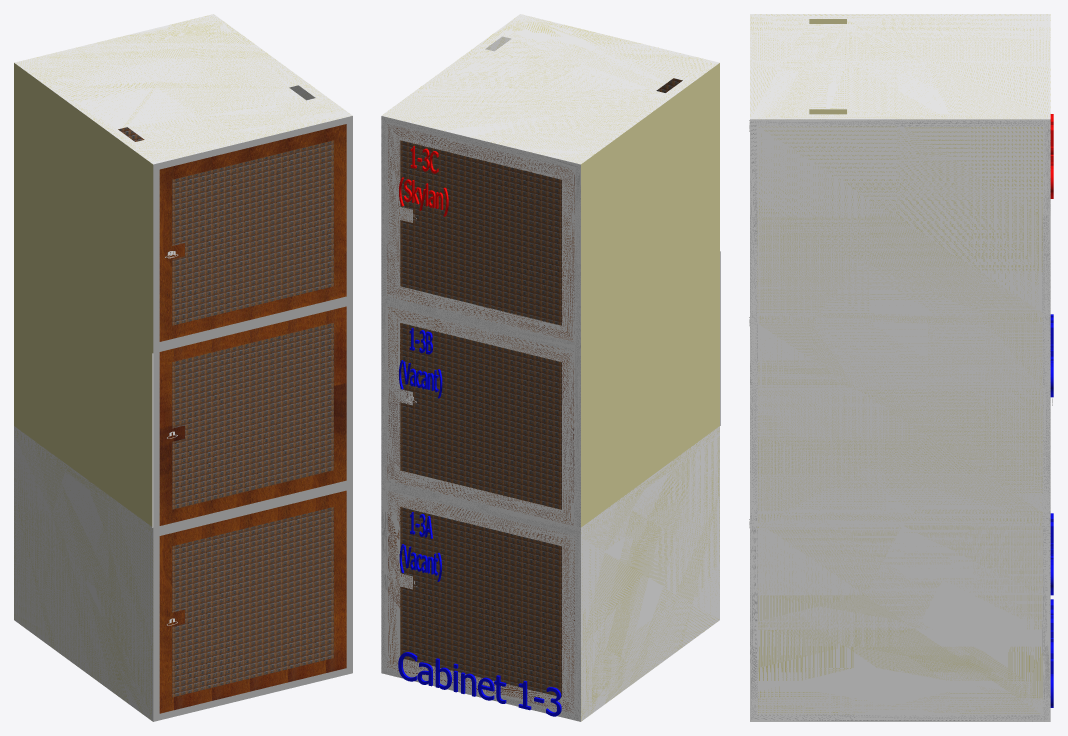
The picture shows the model from 3 angles, left to right: view 1: azimuth 30°, elevation 25°; view 2: azimuth 150°, elevation 25°; view 3: azimuth 270°, elevation 25°; orthographic projection. The views are drawn at different scales.
Visible parts, largest first — view 1: mesh109_mesh109-geometry; view 2: mesh109_mesh109-geometry; view 3: mesh109_mesh109-geometry.
Part boxes in pixels (<box>): mesh109_mesh109-geometry: <box>14,14,352,721</box>; mesh109_mesh109-geometry: <box>381,14,720,721</box>; mesh109_mesh109-geometry: <box>750,14,1050,721</box>.
Size of the model in its own units: 0.3234 by 0.8591 by 0.393.
